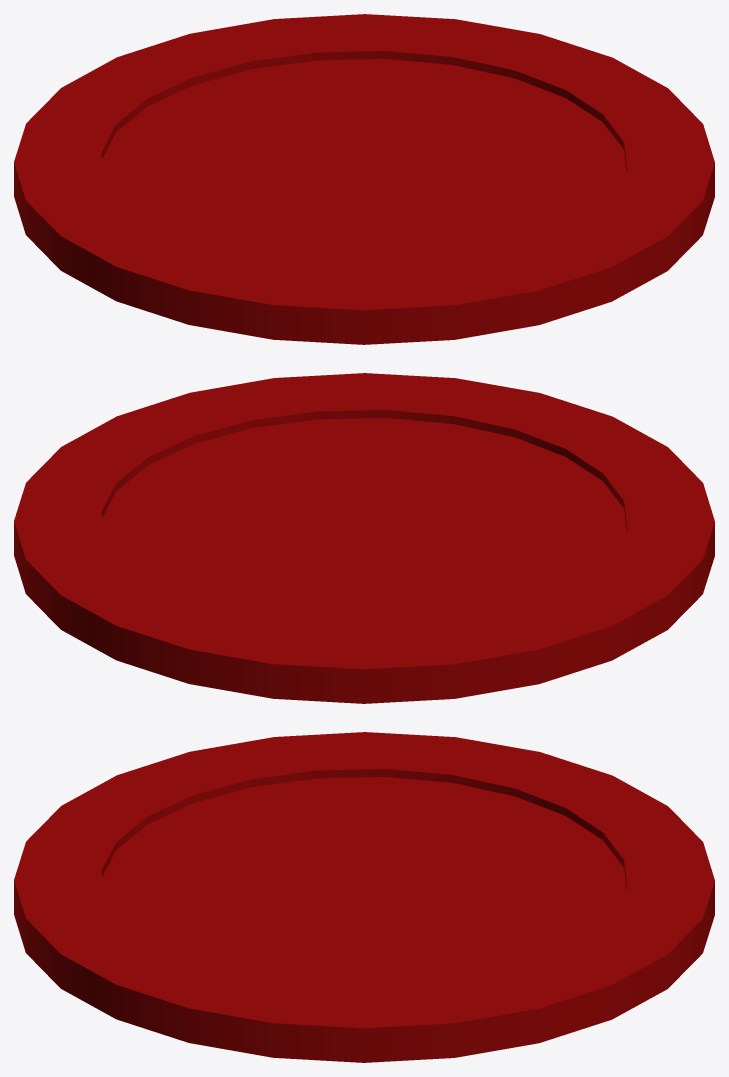
File: AirHockeyPuck.fbx
3 views of the same model, one above another, from view 1: azimuth 30°, elevation 25°; view 2: azimuth 150°, elevation 25°; view 3: azimuth 270°, elevation 25° (orthographic).
Parts seen in each view (by area): view 1: Model; view 2: Model; view 3: Model.
Part boxes in pixels (bbox=[...]): Model: bbox=[14, 14, 714, 344]; Model: bbox=[14, 373, 714, 703]; Model: bbox=[14, 732, 714, 1062].
Bounding box in the file's own units: 220 × 12.02 × 220.
